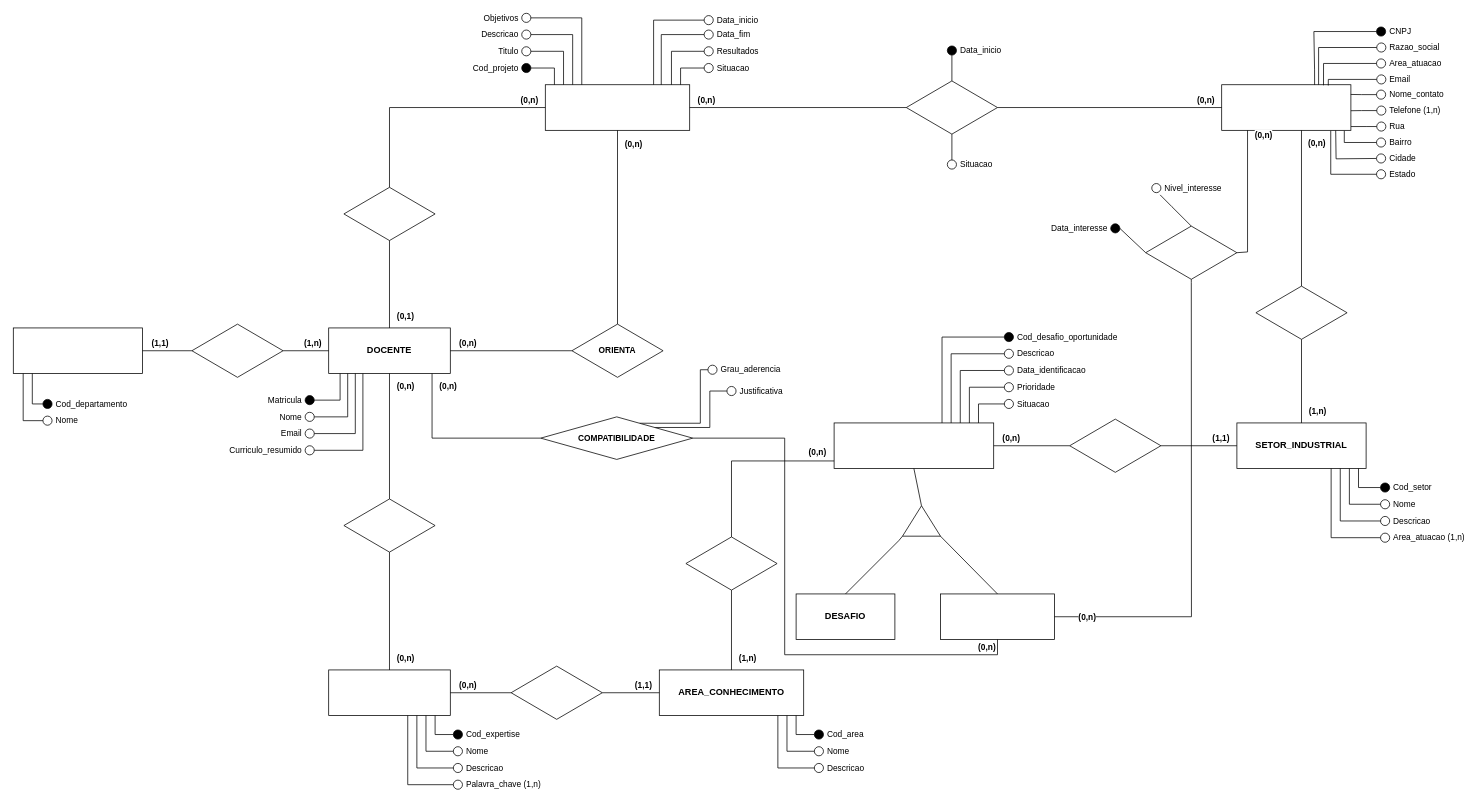
This 1478x803 diagram has some shape labels left out. The shapes that lost their labels are listed below. From the top down, each one's centre as x and y in pixels, then its label:
the point at 617,107: PROJETO_ACADEMICO
the point at 952,107: IMPLEMENTA
the point at 1286,107: EMPRESA
the point at 389,214: COORDENA
the point at 1191,252: INTERESSE
the point at 1301,312: ATUA
the point at 77,350: DEPARTAMENTO
the point at 237,350: VINCULA
the point at 913,445: DESAFIO_OPORTUNIDADE
the point at 1115,445: APRESENTA
the point at 389,525: DOMINA
the point at 921,520: t,d
the point at 731,563: EXIGE
the point at 997,616: OPORTUNIDADE
the point at 389,692: EXPERTISE
the point at 556,692: PERTENCE
